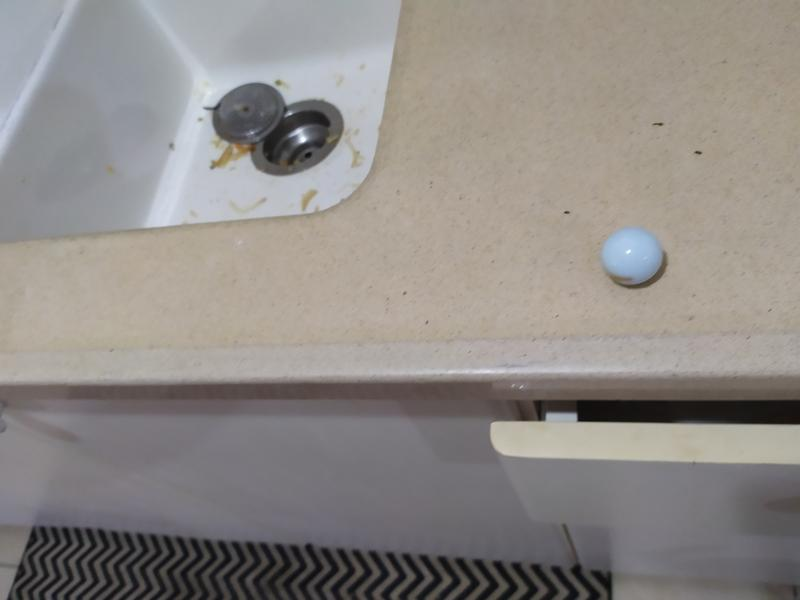Warning: (597, 223, 666, 289)
